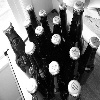beer: (2, 25, 37, 74)
